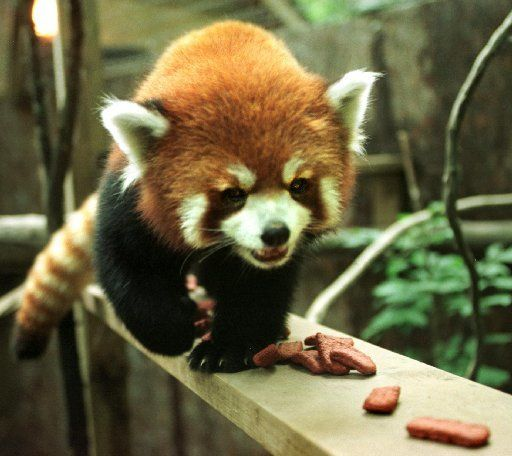red_panda: (11, 18, 390, 377)
